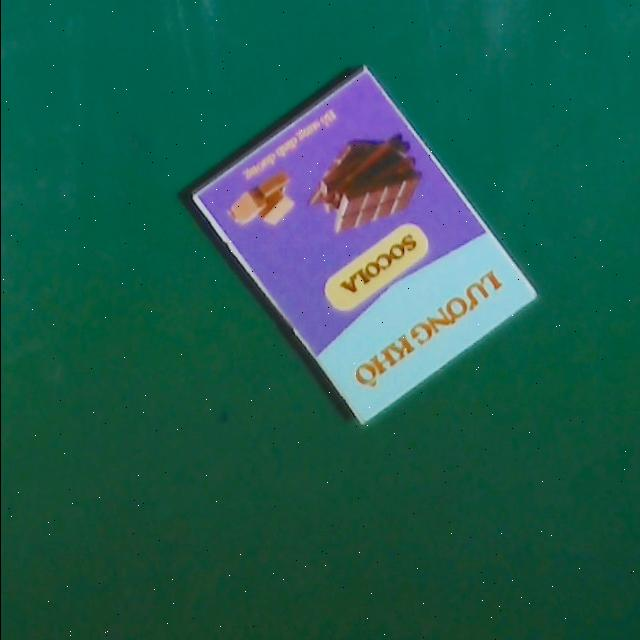socola: (187, 64, 538, 427)
